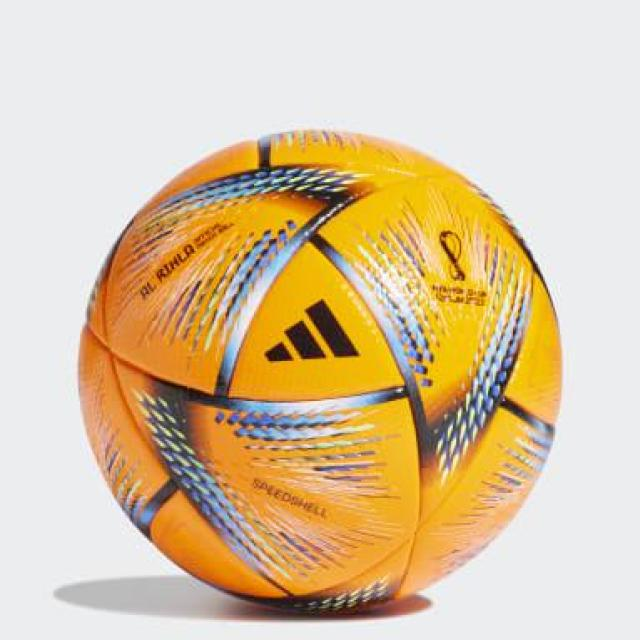ball: (61, 123, 572, 630)
